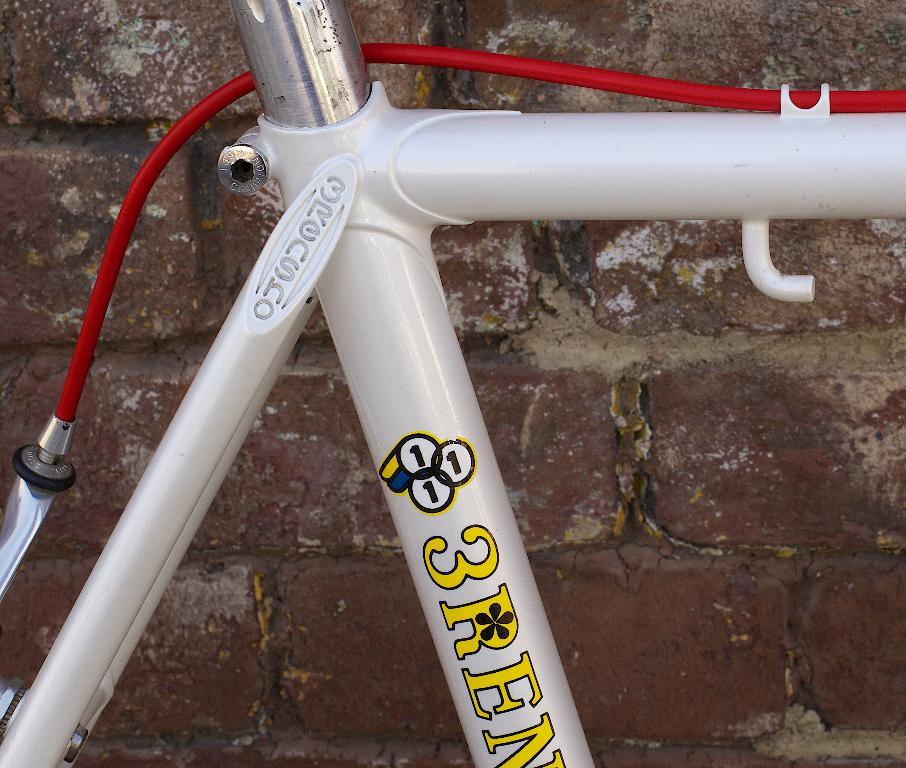Bicycle: (6, 0, 906, 749)
